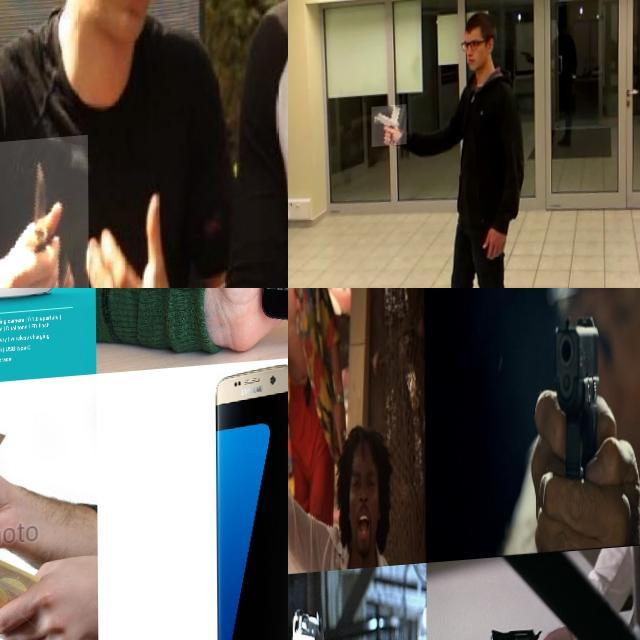-: (0, 137, 88, 288)
gun-knife-thesis - v11 Yolov5 augmented: (526, 313, 634, 561), (288, 316, 320, 412), (487, 609, 575, 640), (288, 590, 322, 640), (371, 108, 406, 150)
